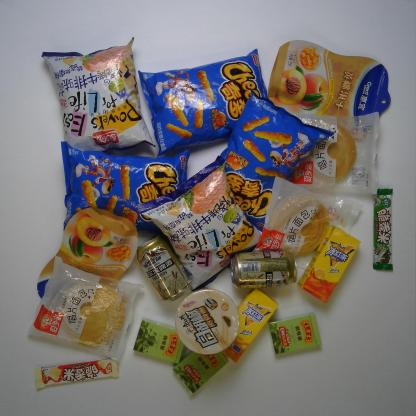Alcohol: (222, 249, 302, 291), (137, 231, 185, 300)
Candy: (170, 343, 232, 394), (135, 316, 197, 366), (264, 312, 330, 358)
Chocolate: (30, 354, 138, 394), (364, 184, 410, 274)
Dessert: (27, 259, 147, 360), (284, 116, 392, 198), (252, 196, 350, 261)
Dried Fruit: (268, 36, 393, 125), (35, 206, 140, 306)
Drink: (212, 286, 280, 365), (303, 222, 362, 304)
Instant Noodles: (169, 290, 243, 360)
Puffed Food: (208, 92, 327, 230), (137, 163, 269, 287), (48, 140, 208, 237), (141, 49, 281, 154), (40, 33, 154, 154)
